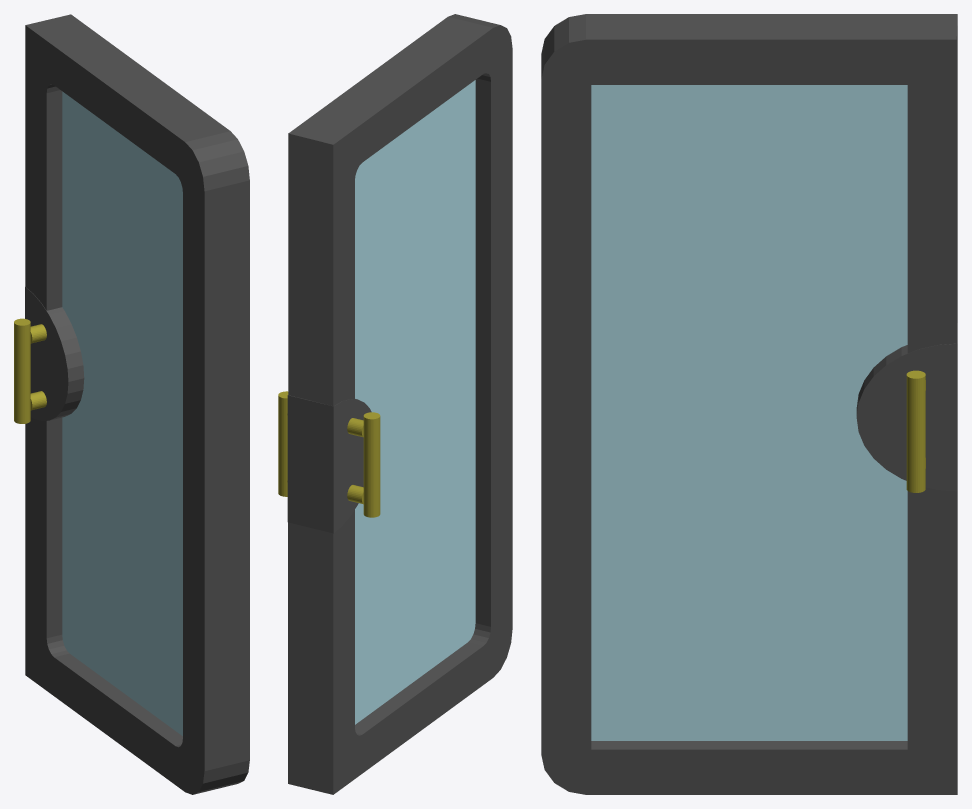
Rendered from Kapı sol1.fbx.
3 views of the same model, side by side, from view 1: azimuth 30°, elevation 25°; view 2: azimuth 150°, elevation 25°; view 3: azimuth 270°, elevation 25° (orthographic). The views are drawn at different scales.
Visible parts, largest first — view 1: Cube.001; view 2: Cube.001; view 3: Cube.001.
Part boxes in pixels (left/top/right/bottom): Cube.001: left=14, top=14, right=249, bottom=794; Cube.001: left=278, top=14, right=512, bottom=794; Cube.001: left=541, top=14, right=957, bottom=794.
Size of the model in its own units: 32.11 by 200 by 100.
